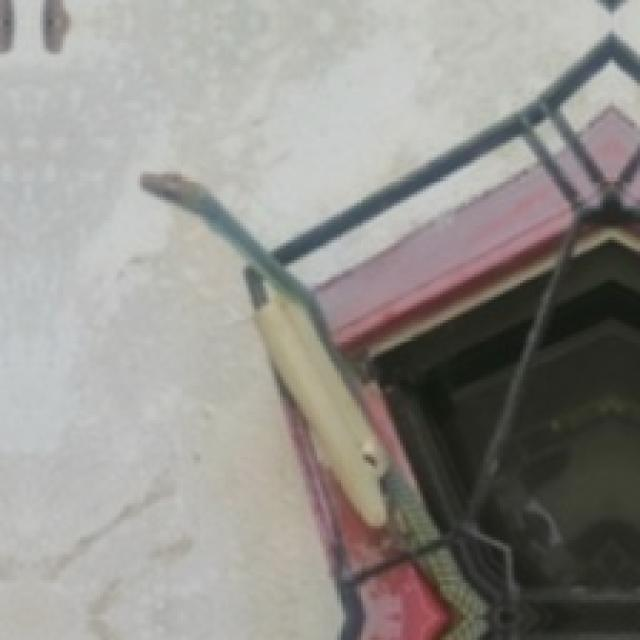paradise tree snake: (140, 174, 386, 526)
